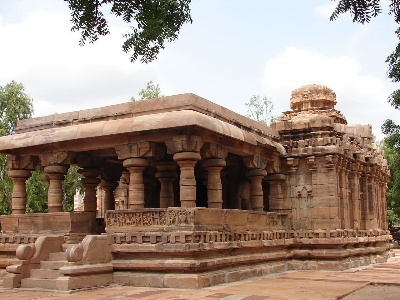mandapa: (10, 105, 283, 223)
